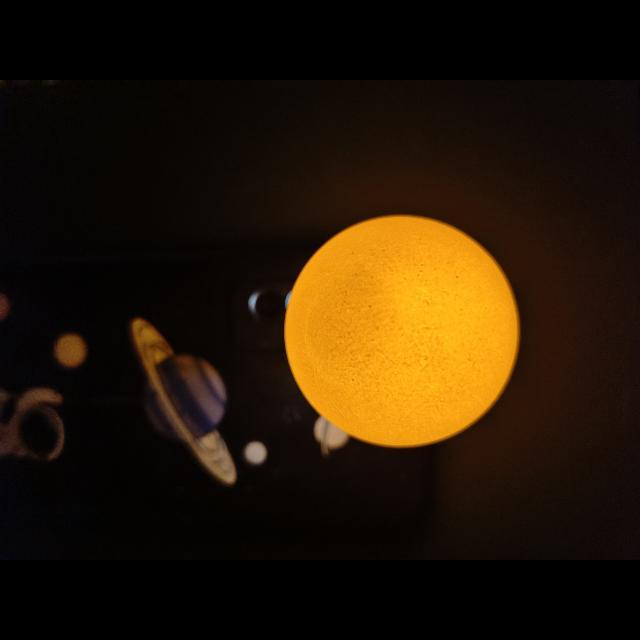AA - Premium: (285, 216, 519, 448)
